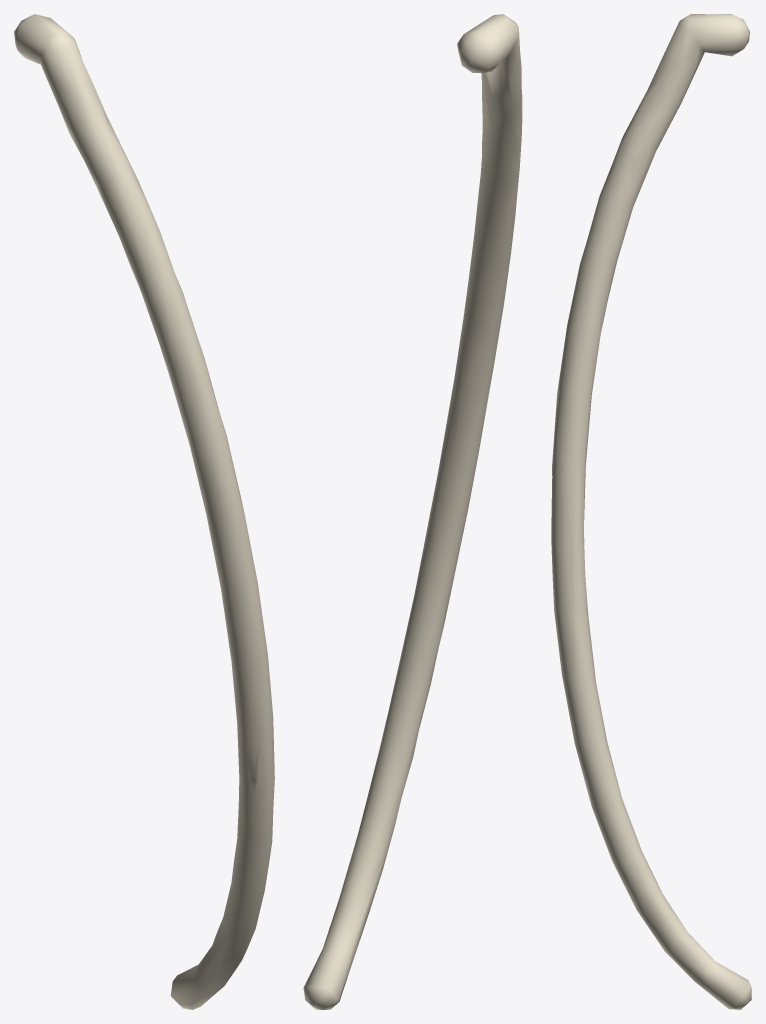
File: rib_3_l.glb
3 views of the same model, side by side, from view 1: azimuth 30°, elevation 25°; view 2: azimuth 150°, elevation 25°; view 3: azimuth 270°, elevation 25° (orthographic). The views are drawn at different scales.
Parts seen in each view (by area): view 1: geometry_0; view 2: geometry_0; view 3: geometry_0.
Part boxes in pixels (x1,y1,x2,y2): geometry_0: [14, 14, 274, 1009]; geometry_0: [303, 14, 522, 1009]; geometry_0: [551, 14, 751, 1009].
Bounding box in the file's own units: 0.2294 × 1.17 × 0.23.
